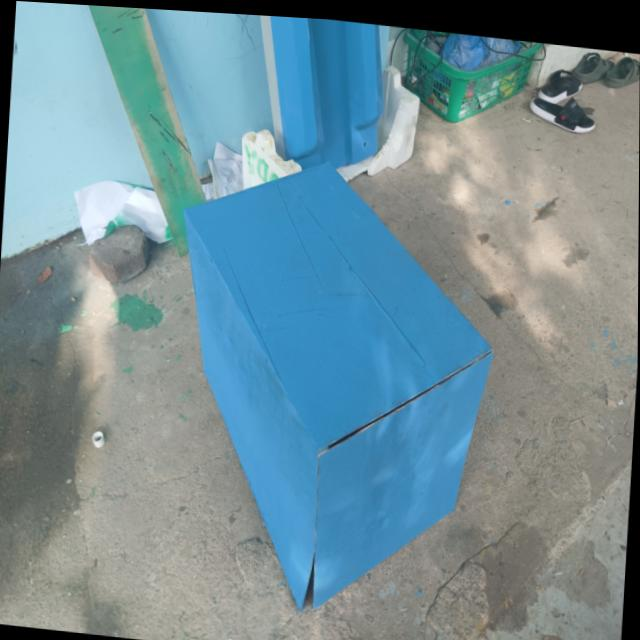blue_box: (144, 135, 504, 612)
